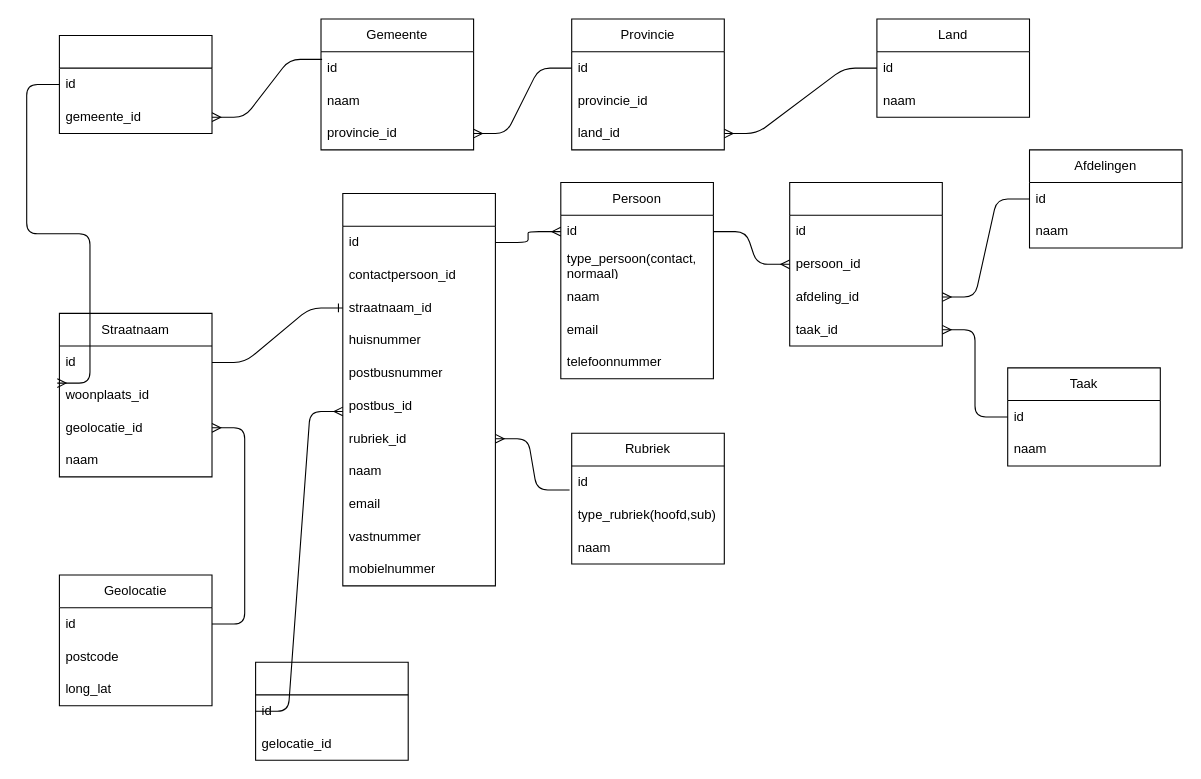
Image size: 1201x779. Some labels were removed from this diagram. Here are the shapes that lost their labels. From the top down, the box of each, then its label:
(58, 34, 212, 134): Woonplaats
(789, 181, 942, 346): Functies
(342, 192, 495, 586): Leverancier
(255, 661, 408, 760): Postbus
